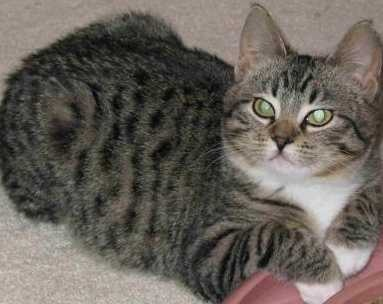Cat: (202, 3, 382, 303)
